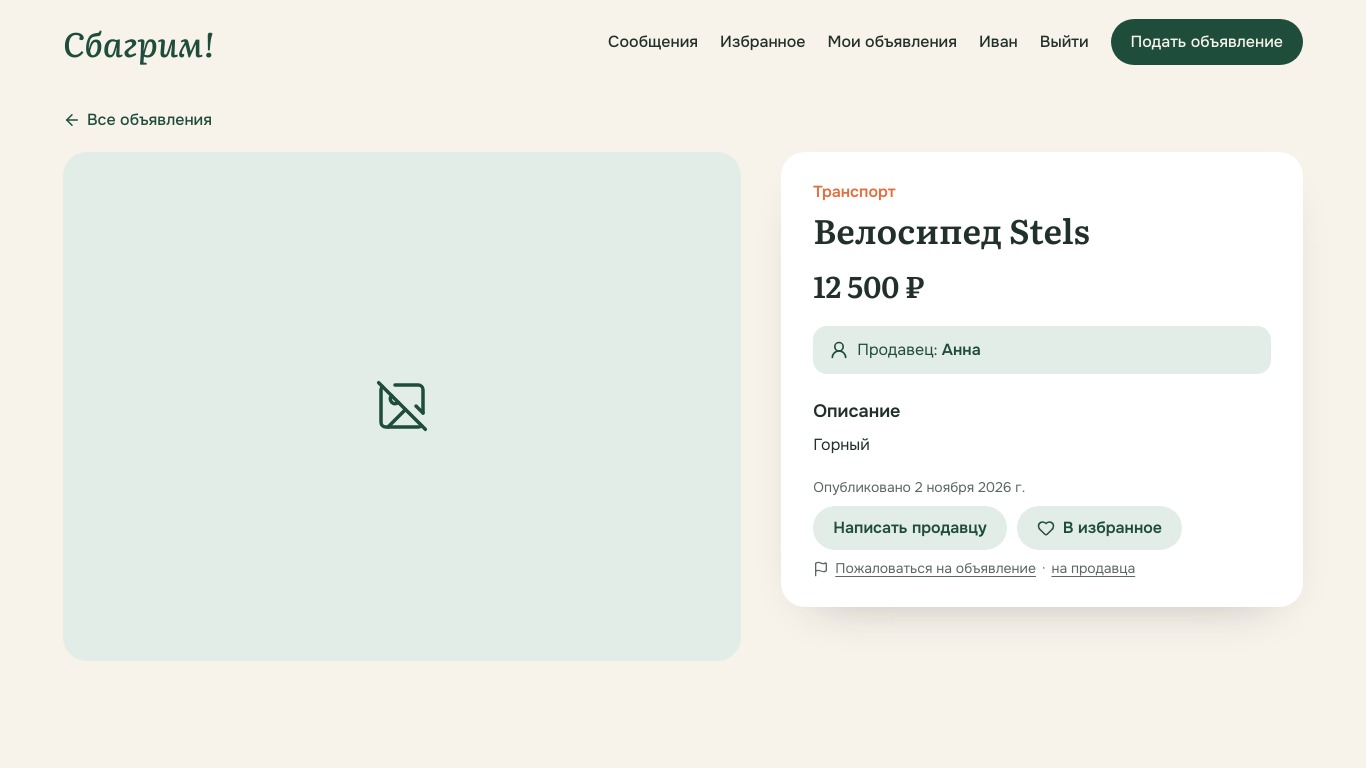
Test: жалоба на карточке объявления › показывает ошибку сервера и оставляет форму открытой
Click the button "Пожаловаться на объявление" at (936, 569), box [835, 558, 1036, 579]
(page scrolled)
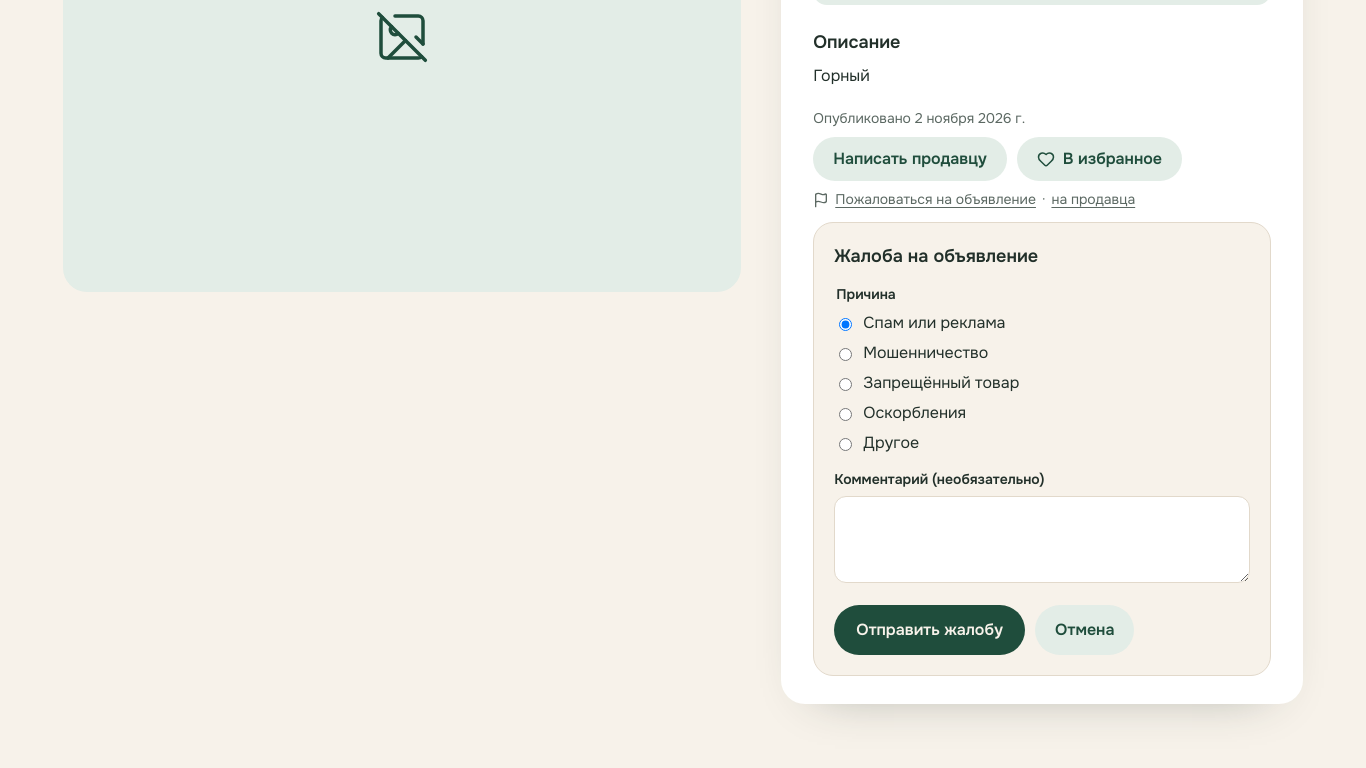
Click the button "Отправить жалобу" at (930, 630), box [834, 605, 1025, 655]
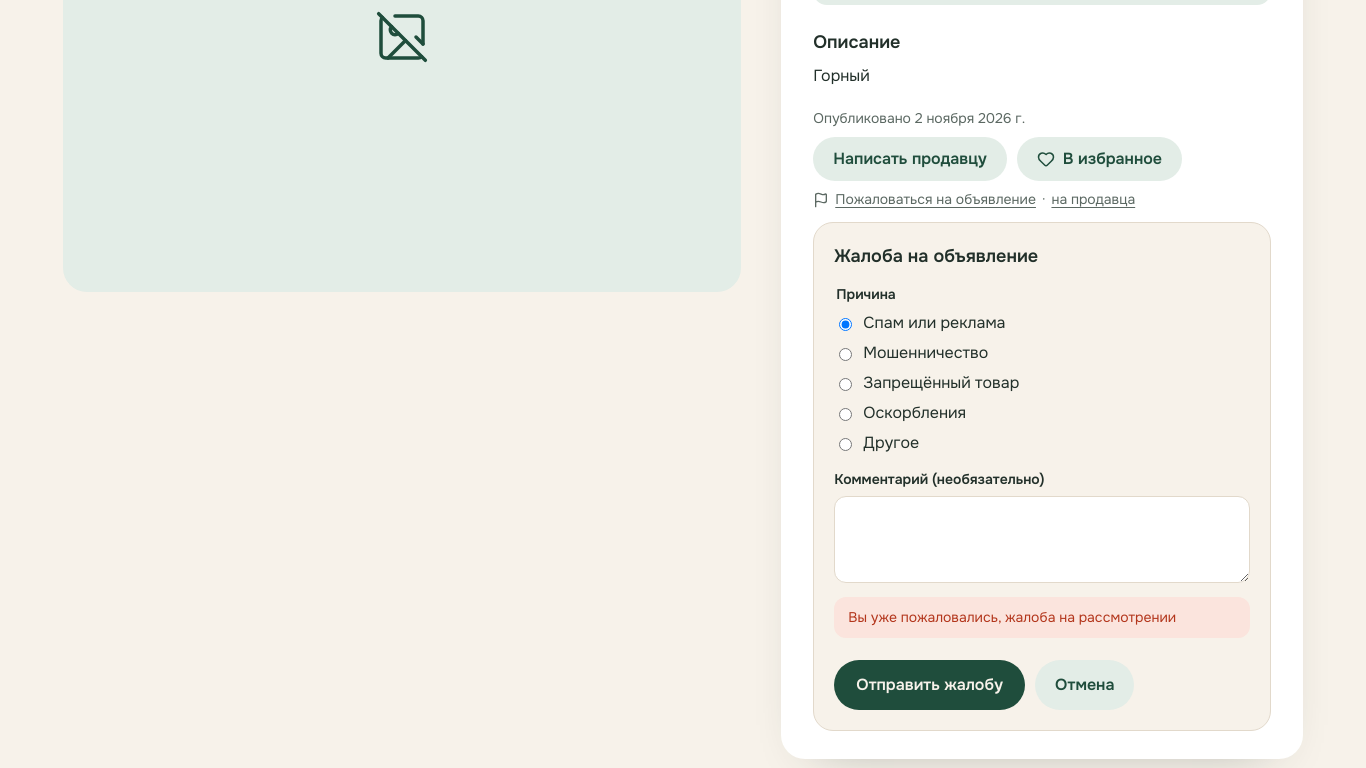
Now the form is shown, box [813, 222, 1271, 731]
Now the message shows "Вы уже пожаловались", box [848, 608, 1176, 626]
